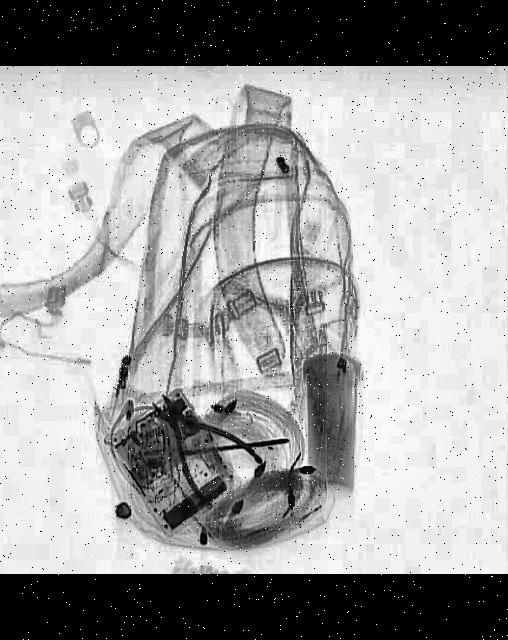Pliers: (124, 374, 270, 510)
